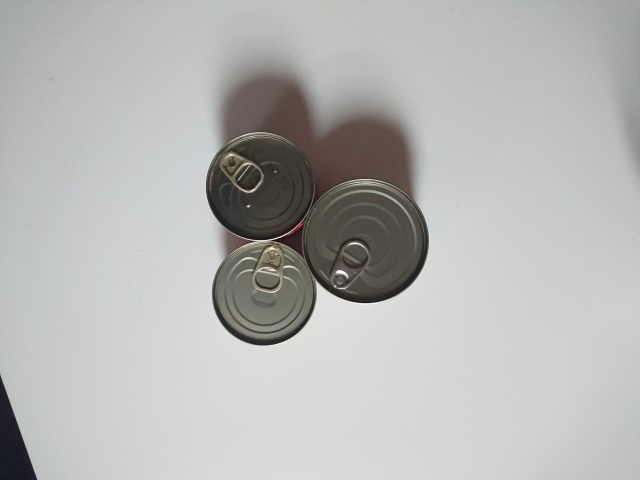Gavrilovic Pork Liver Pate 100g: (210, 239, 319, 348)
Giana Tuna Salad Mexico 185g: (299, 174, 431, 305)
Podravka Luncheon Meat 150g: (203, 129, 318, 245)
